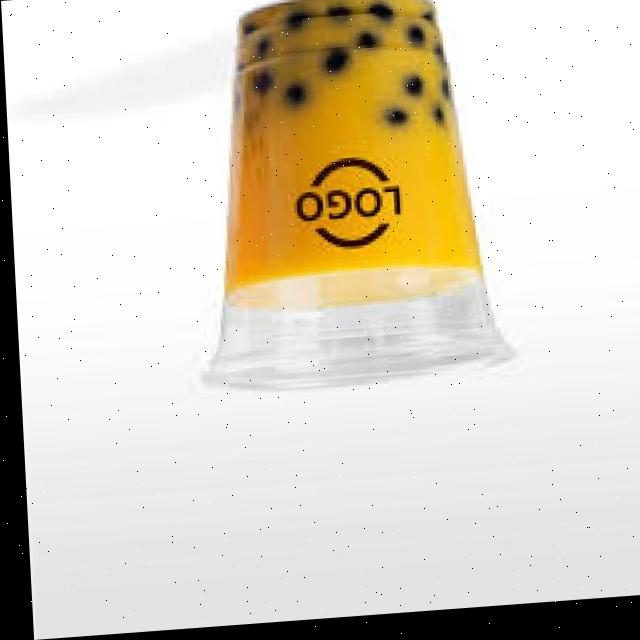cup: (199, 0, 508, 394)
